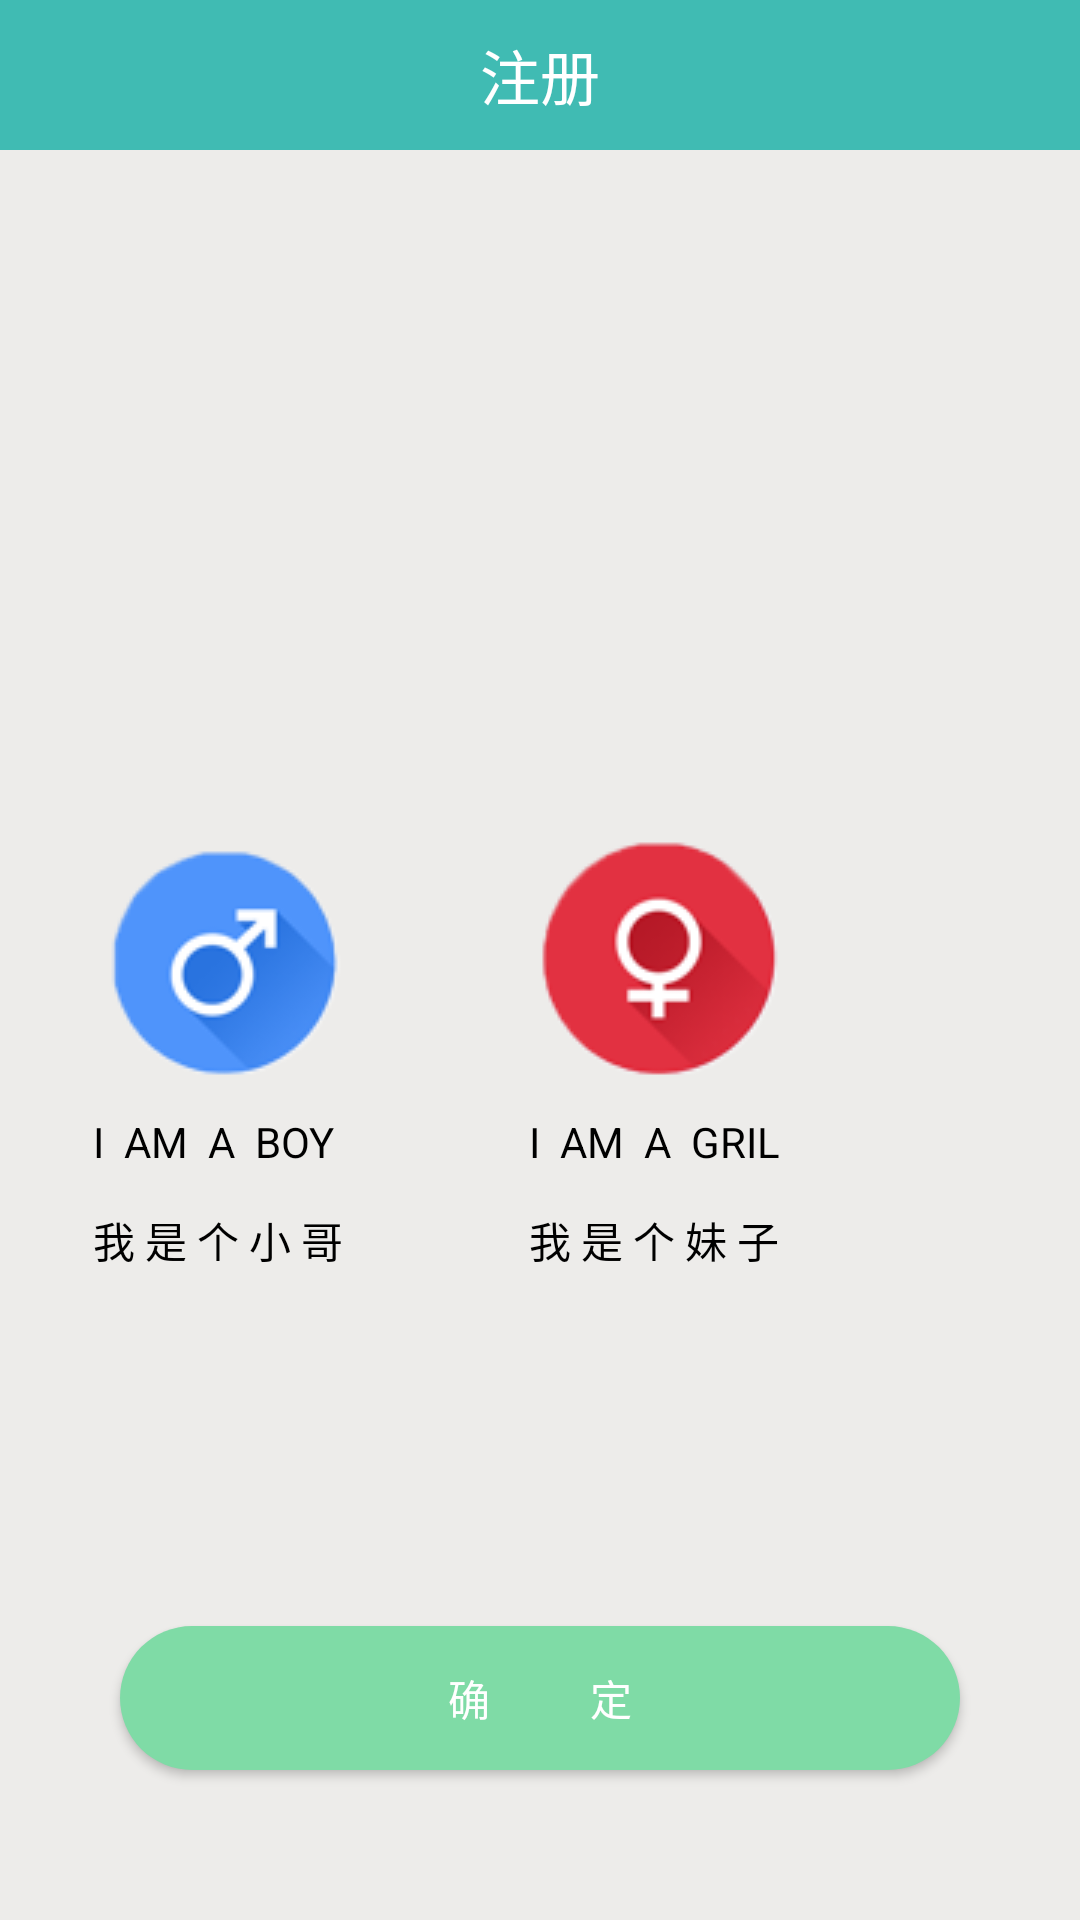

Named icons in this screenshot (1080 × 1920) and their centers, [x,y]:
man: [225,963]
woman: [659,958]
